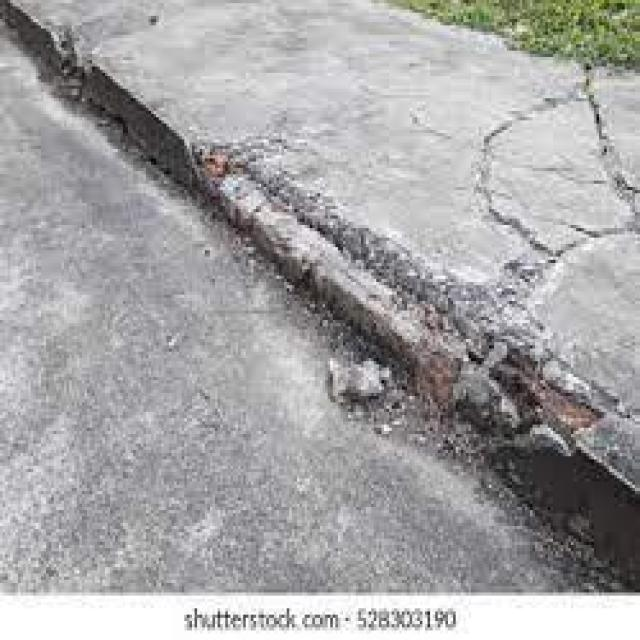curb: (312, 243, 486, 414), (79, 42, 239, 205), (215, 177, 336, 291)
